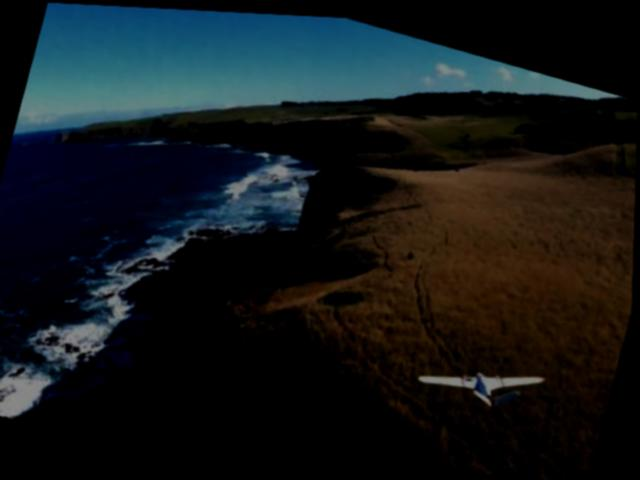uav: (419, 339, 550, 410)
